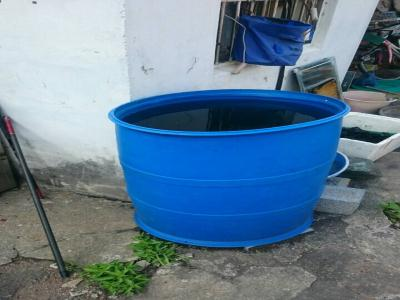bowl: (341, 88, 393, 113)
bucket: (108, 85, 346, 247)
plastic_bag: (228, 14, 313, 68)
styrofoam: (342, 111, 393, 164)
